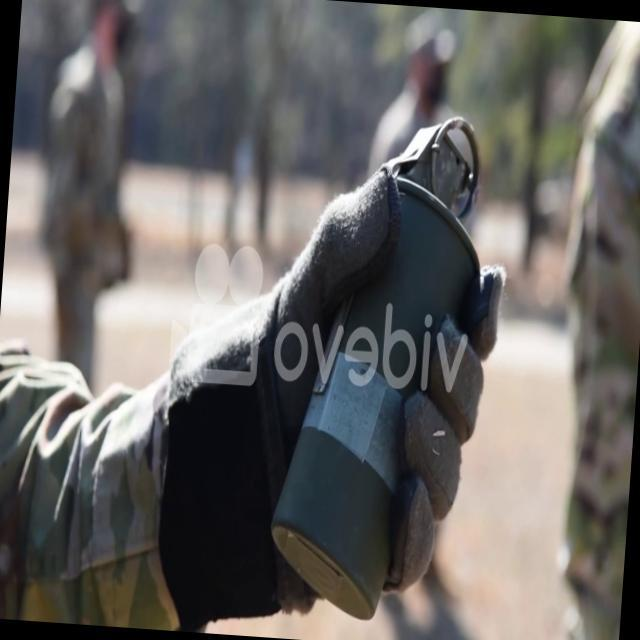grenade: (260, 97, 510, 625)
